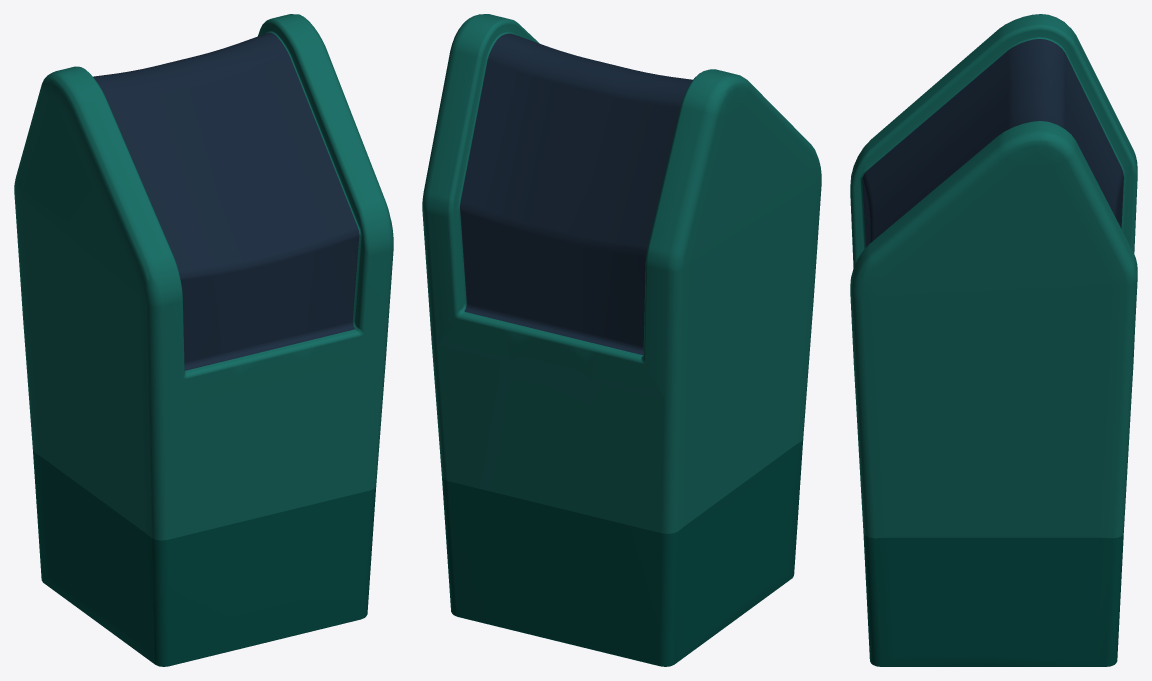
File: SM_Building_05.fbx
3 views of the same model, side by side, from view 1: azimuth 30°, elevation 25°; view 2: azimuth 150°, elevation 25°; view 3: azimuth 270°, elevation 25° (orthographic). The views are drawn at different scales.
Visible parts, largest first — view 1: Building.004; view 2: Building.004; view 3: Building.004.
Boxes of the visible parts, bbox=[...] form: Building.004: bbox=[14, 14, 393, 666]; Building.004: bbox=[422, 14, 821, 666]; Building.004: bbox=[850, 14, 1137, 666].
Bounding box in the file's own units: 3783 × 7631 × 3662.
